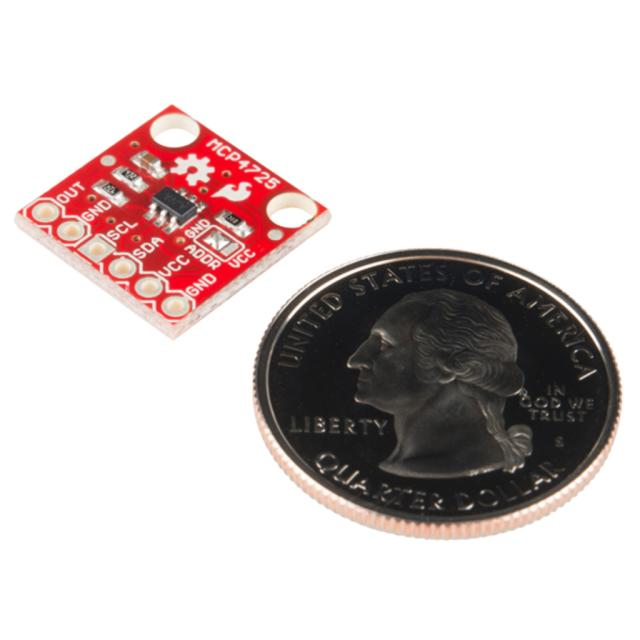Coin: (251, 241, 626, 540)
